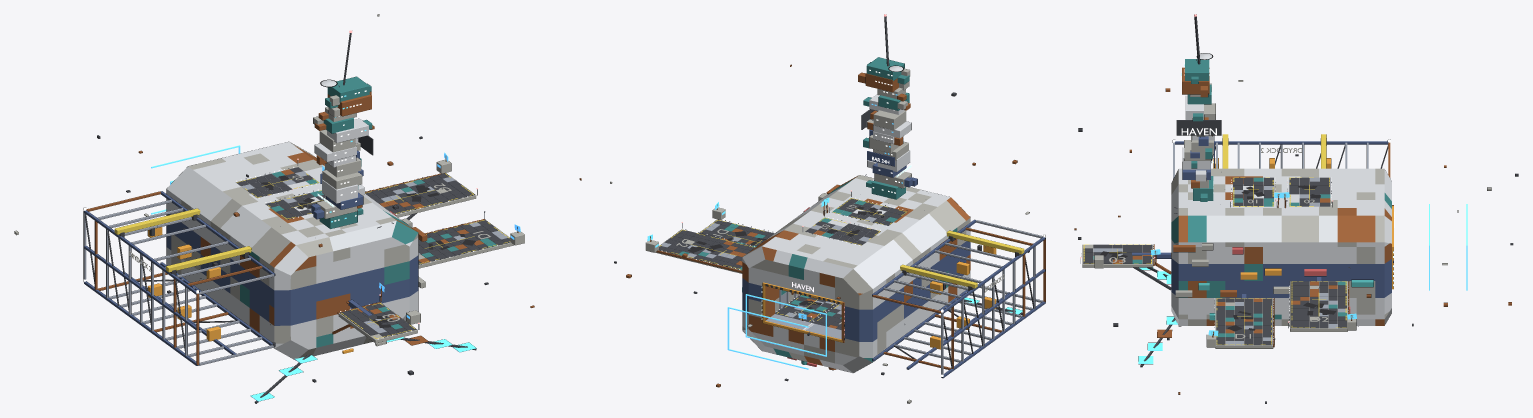
File: Station_Haven.fbx
3 views of the same model, side by side, from view 1: azimuth 30°, elevation 25°; view 2: azimuth 150°, elevation 25°; view 3: azimuth 270°, elevation 25° (orthographic). The views are drawn at different scales.
Parts seen in each view (by area): view 1: Hub_Block, Spine_Habs, PadD1_Tiles, PadD2_Tiles, PadF3_Tiles, PadF2_Tiles, PadF1_Tiles, Dock_Gantry1, Dock_Gantry0, Dock_Long_-178_40, Dock_Long_-178_-40, Dock_Long_-178_0; view 2: Hub_Block, Spine_Habs, PadD2_Tiles, PadD1_Tiles, PadF1_Tiles, PadF2_Tiles, Slot_Tunnel, Slot_Frame, PadF5_Tiles, HubIn_Lining, Dock_Gantry1, Dock_Gantry0 (+5 smaller); view 3: Hub_Block, Spine_Habs, PadD1_Tiles, PadD2_Tiles, Hull_Bolted, PadF3_Tiles, PadF2_Tiles, PadF1_Tiles, Spine_BoardA, Dock_Long_-178_40, PadD1_Slab, PadD2_Slab (+1 smaller).
Part boxes in pixels (left/top/right/bottom): Hub_Block: left=166, top=141, right=418, bottom=360; Spine_Habs: left=311, top=76, right=372, bottom=228; PadD1_Tiles: left=418, top=219, right=510, bottom=264; PadD2_Tiles: left=365, top=173, right=474, bottom=214; PadF3_Tiles: left=340, top=303, right=416, bottom=337; PadF2_Tiles: left=236, top=167, right=319, bottom=197; PadF1_Tiles: left=265, top=190, right=325, bottom=219; Dock_Gantry1: left=114, top=208, right=200, bottom=234; Dock_Gantry0: left=166, top=246, right=251, bottom=272; Dock_Long_-178_40: left=84, top=210, right=196, bottom=294; Dock_Long_-178_-40: left=84, top=281, right=197, bottom=365; Dock_Long_-178_0: left=84, top=246, right=196, bottom=330; Hub_Block: left=742, top=175, right=970, bottom=373; Spine_Habs: left=858, top=57, right=917, bottom=199; PadD2_Tiles: left=659, top=229, right=754, bottom=270; PadD1_Tiles: left=699, top=219, right=774, bottom=247; PadF1_Tiles: left=832, top=198, right=907, bottom=225; PadF2_Tiles: left=805, top=217, right=880, bottom=245; Slot_Tunnel: left=765, top=286, right=841, bottom=339; Slot_Frame: left=761, top=282, right=844, bottom=342; PadF5_Tiles: left=776, top=295, right=834, bottom=321; HubIn_Lining: left=775, top=288, right=839, bottom=326; Dock_Gantry1: left=900, top=264, right=977, bottom=288; Dock_Gantry0: left=946, top=230, right=1024, bottom=254; Hub_Block: left=1171, top=168, right=1391, bottom=325; Spine_Habs: left=1182, top=59, right=1215, bottom=201; PadD1_Tiles: left=1216, top=298, right=1272, bottom=345; PadD2_Tiles: left=1291, top=281, right=1346, bottom=328; Hull_Bolted: left=1173, top=243, right=1373, bottom=326; PadF3_Tiles: left=1083, top=244, right=1152, bottom=263; PadF2_Tiles: left=1289, top=177, right=1330, bottom=206; PadF1_Tiles: left=1233, top=177, right=1273, bottom=206; Spine_BoardA: left=1176, top=120, right=1221, bottom=135; Dock_Long_-178_40: left=1175, top=141, right=1388, bottom=144; PadD1_Slab: left=1215, top=298, right=1273, bottom=348; PadD2_Slab: left=1290, top=281, right=1347, bottom=331.
Bounding box in the file's own units: 432 × 364 × 475.
